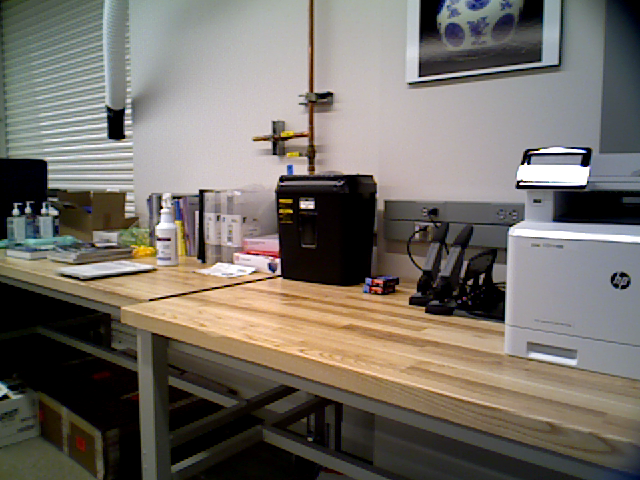painting2: (401, 1, 565, 85)
